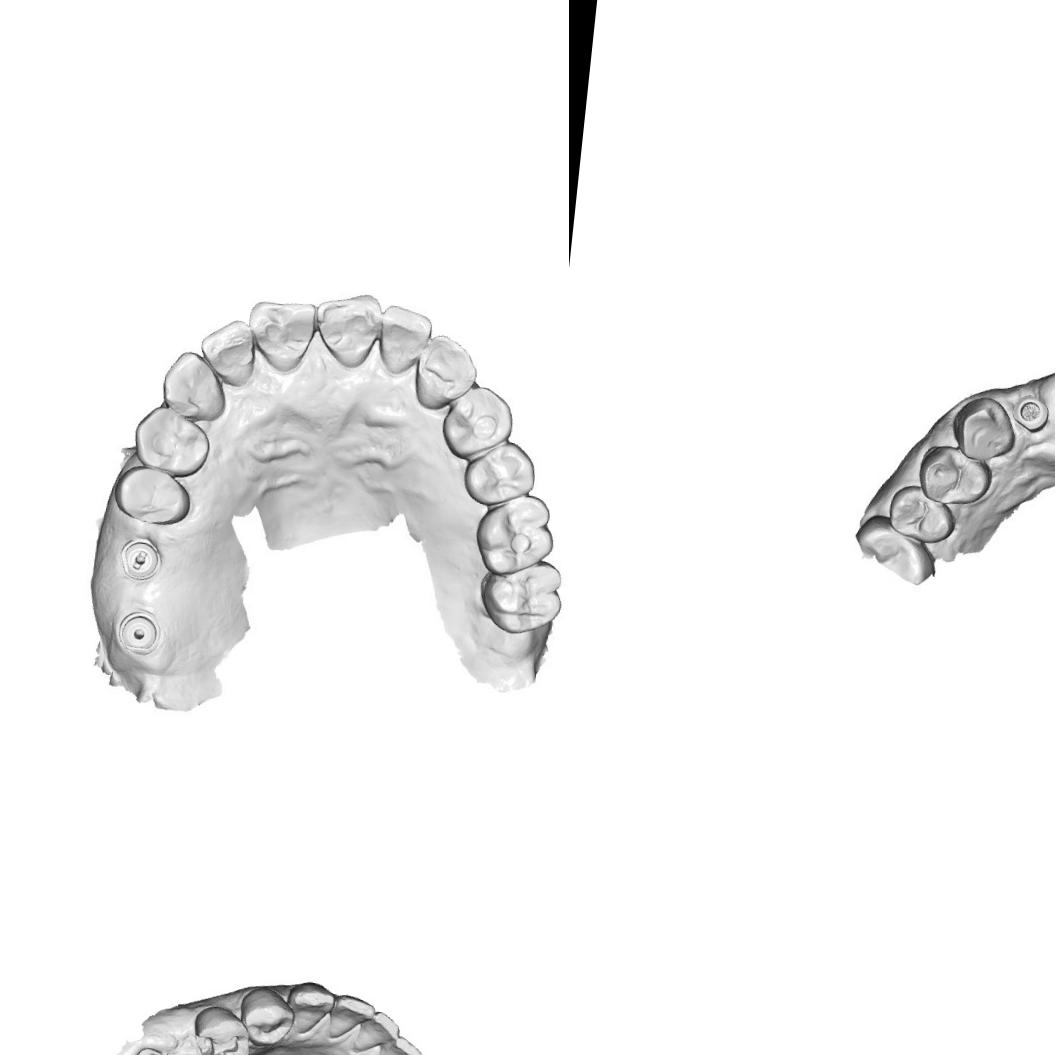canine: (156, 346, 234, 426), (947, 395, 1021, 470), (414, 334, 478, 414), (282, 978, 336, 1038)
implant: (111, 597, 167, 659), (1008, 384, 1055, 442), (128, 1043, 170, 1055)
implant_minus: (116, 532, 176, 592)
incisor: (248, 298, 316, 369), (314, 290, 378, 364), (376, 302, 430, 374), (200, 318, 256, 381), (326, 992, 377, 1044), (351, 1008, 402, 1055), (372, 1033, 424, 1055)
molar: (471, 489, 568, 581), (472, 554, 568, 640)
premolar: (121, 406, 219, 476), (458, 436, 542, 514), (440, 380, 518, 460), (111, 461, 198, 532), (880, 480, 960, 548), (919, 448, 989, 510), (236, 983, 298, 1050), (187, 1002, 255, 1055)
